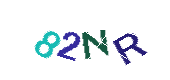2: (44, 0, 124, 80)
8: (22, 0, 102, 80)
N: (54, 0, 134, 80)
R: (62, 0, 142, 80)
